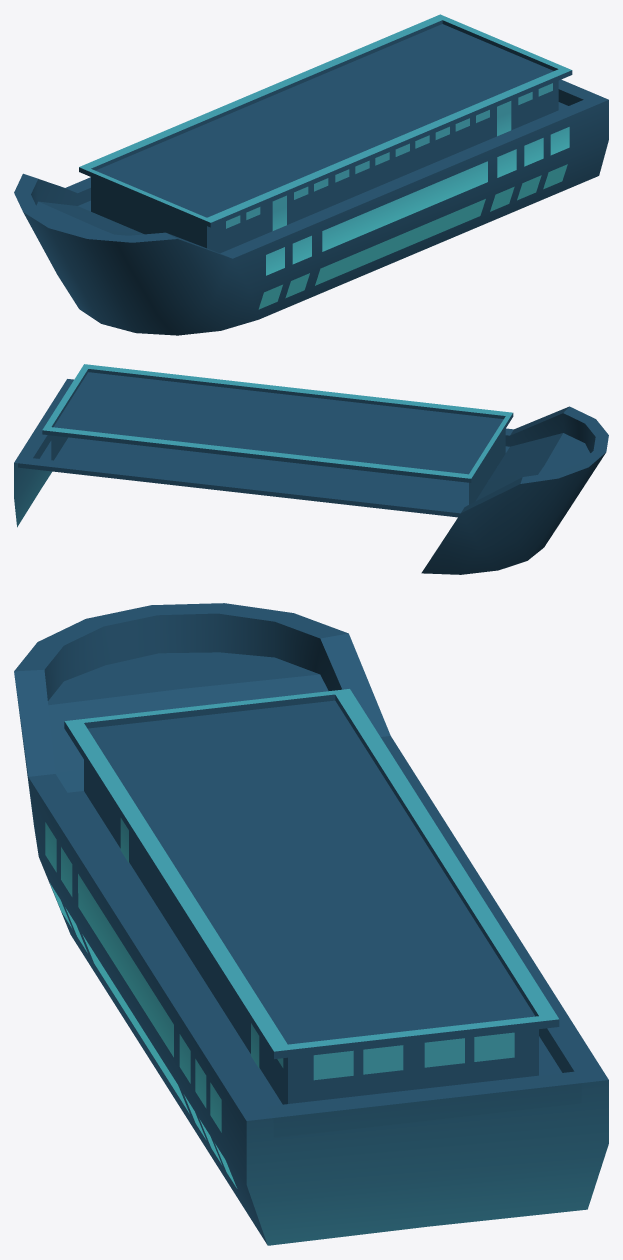
File: Super_Ship_LV3.FBX
3 views of the same model, one above another, from view 1: azimuth 30°, elevation 25°; view 2: azimuth 150°, elevation 25°; view 3: azimuth 270°, elevation 25° (orthographic). The views are drawn at different scales.
Parts seen in each view (by area): view 1: Super_Ship; view 2: Super_Ship; view 3: Super_Ship.
Part boxes in pixels (left/top/right/bottom): Super_Ship: left=14, top=14, right=608, bottom=335; Super_Ship: left=14, top=364, right=608, bottom=574; Super_Ship: left=14, top=603, right=608, bottom=1245.
Size of the model in its own units: 41.94 by 7.97 by 23.01.
